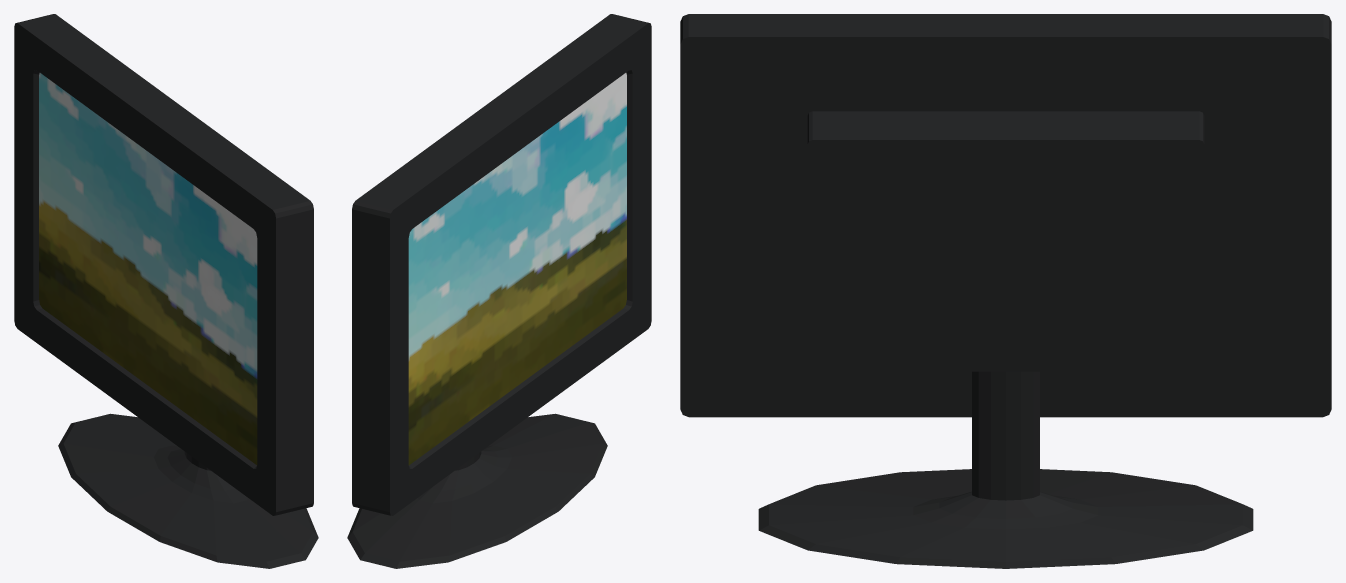
File: Monitor.fbx
3 views of the same model, side by side, from view 1: azimuth 30°, elevation 25°; view 2: azimuth 150°, elevation 25°; view 3: azimuth 270°, elevation 25° (orthographic). The views are drawn at different scales.
Parts seen in each view (by area): view 1: monitor; view 2: monitor; view 3: monitor.
Boxes of the visible parts, <box> form: monitor: <box>14,14,318,568</box>; monitor: <box>347,14,651,568</box>; monitor: <box>680,14,1331,568</box>.
Size of the model in its own units: 0.3576 by 0.8126 by 1.
